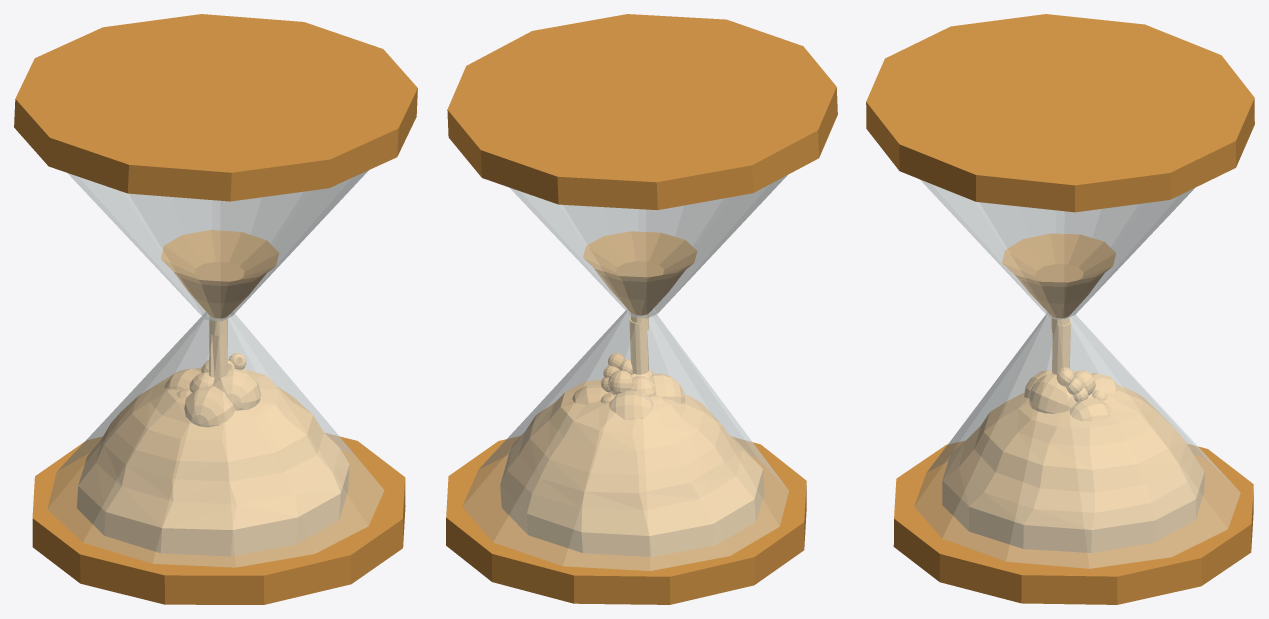
File: TimeTurner.glb
3 views of the same model, side by side, from view 1: azimuth 30°, elevation 25°; view 2: azimuth 150°, elevation 25°; view 3: azimuth 270°, elevation 25° (orthographic). The views are drawn at different scales.
Parts seen in each view (by area): view 1: TimeTurner; view 2: TimeTurner; view 3: TimeTurner.
Boxes of the visible parts, x1=… form: TimeTurner: x1=14, y1=14, x2=417, y2=604; TimeTurner: x1=446, y1=14, x2=837, y2=604; TimeTurner: x1=866, y1=14, x2=1254, y2=604.
Bounding box in the file's own units: 0.4308 × 0.5272 × 0.4294.
